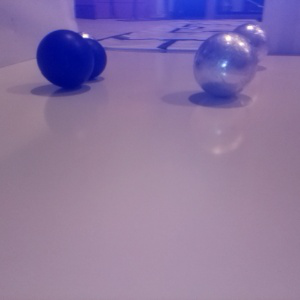alive_ball: (192, 32, 257, 99), (230, 22, 270, 64), (71, 30, 97, 62)
dead_ball: (36, 29, 94, 89), (74, 38, 107, 77)
